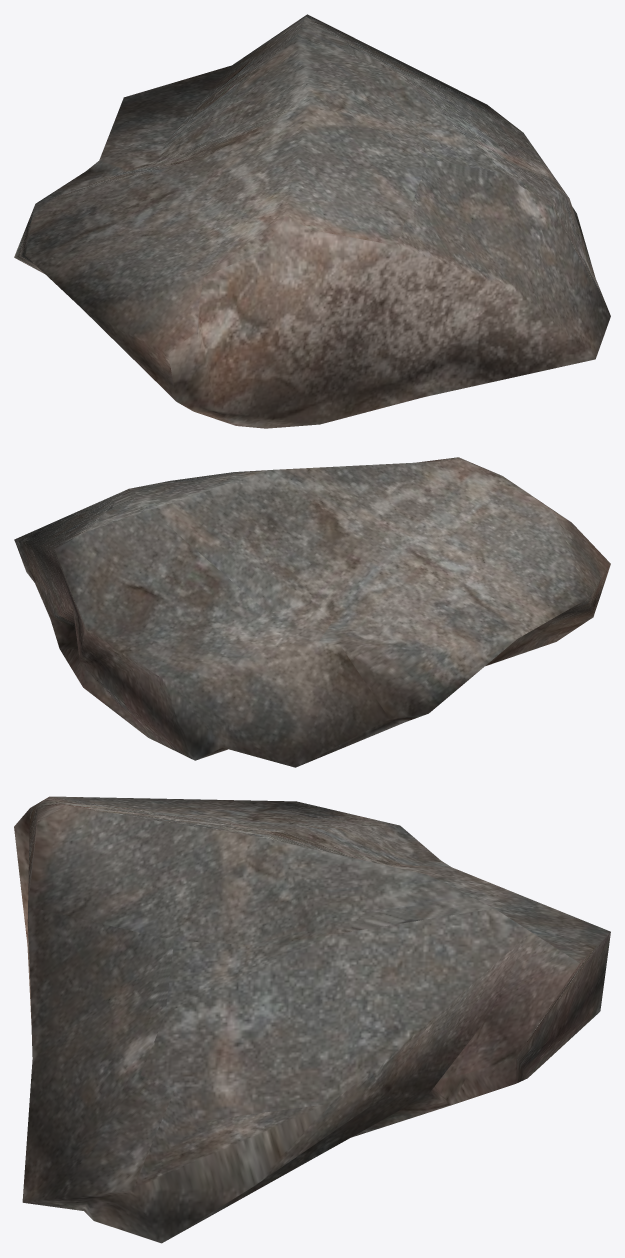
The model's file is rock_scan02.fbx.
The picture shows the model from 3 angles, top to bottom: view 1: azimuth 30°, elevation 25°; view 2: azimuth 150°, elevation 25°; view 3: azimuth 270°, elevation 25°; orthographic projection. The views are drawn at different scales.
Visible parts, largest first — view 1: Rock02_LOD3; view 2: Rock02_LOD3; view 3: Rock02_LOD3.
Part boxes in pixels (<box>): Rock02_LOD3: <box>14,14,610,428</box>; Rock02_LOD3: <box>14,457,610,767</box>; Rock02_LOD3: <box>14,796,610,1243</box>.
Size of the model in its own units: 195 by 81.63 by 161.
1 material, 1 textured.
